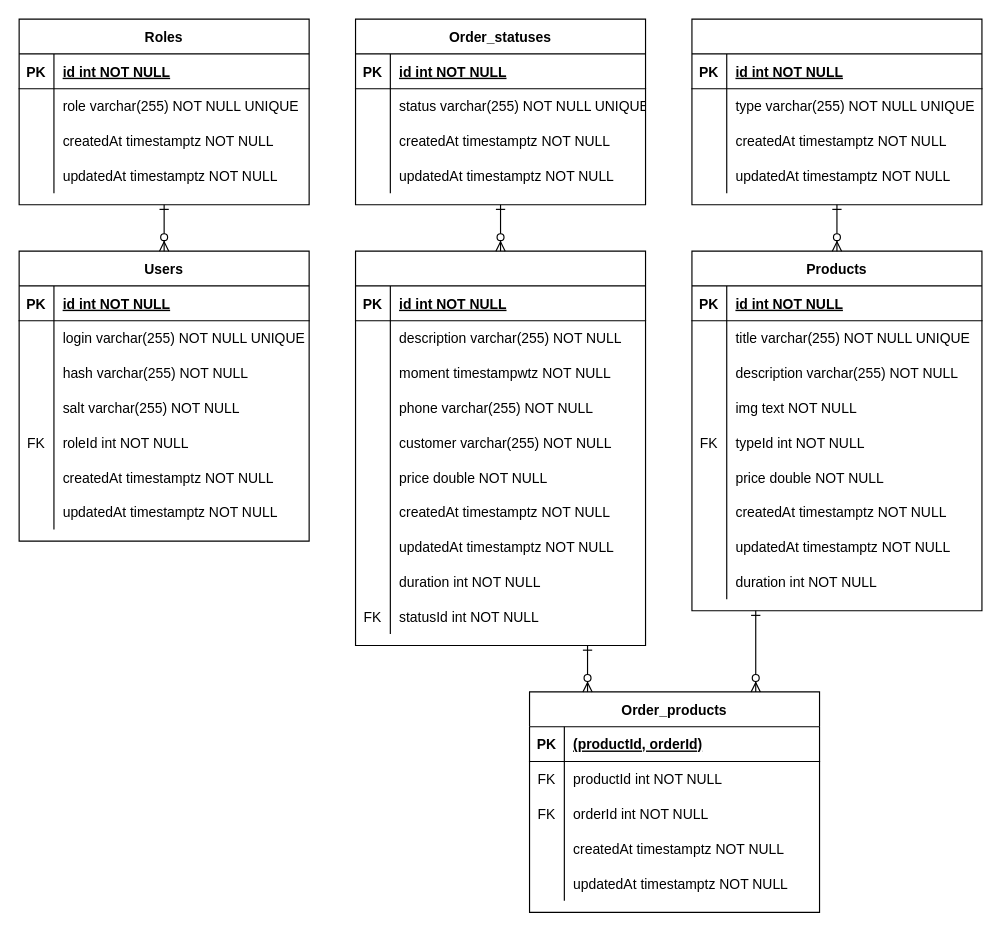
Some shapes in this 1001 by 931 pixel diagram are drawn without their labels. Each missing label, with the box of its shape:
Orders: (354, 250, 646, 646)
Product_types: (691, 18, 982, 205)
